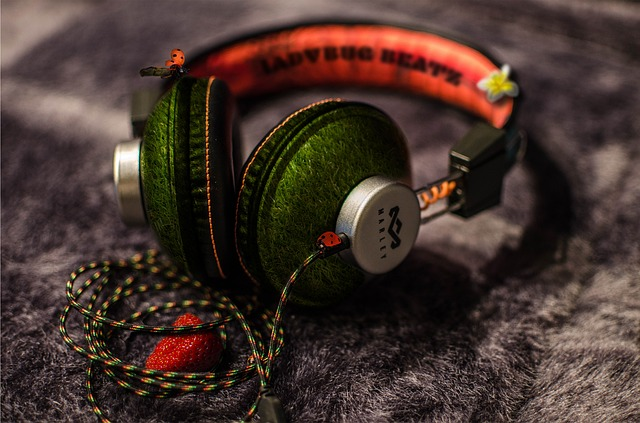headphones: (114, 15, 525, 302)
